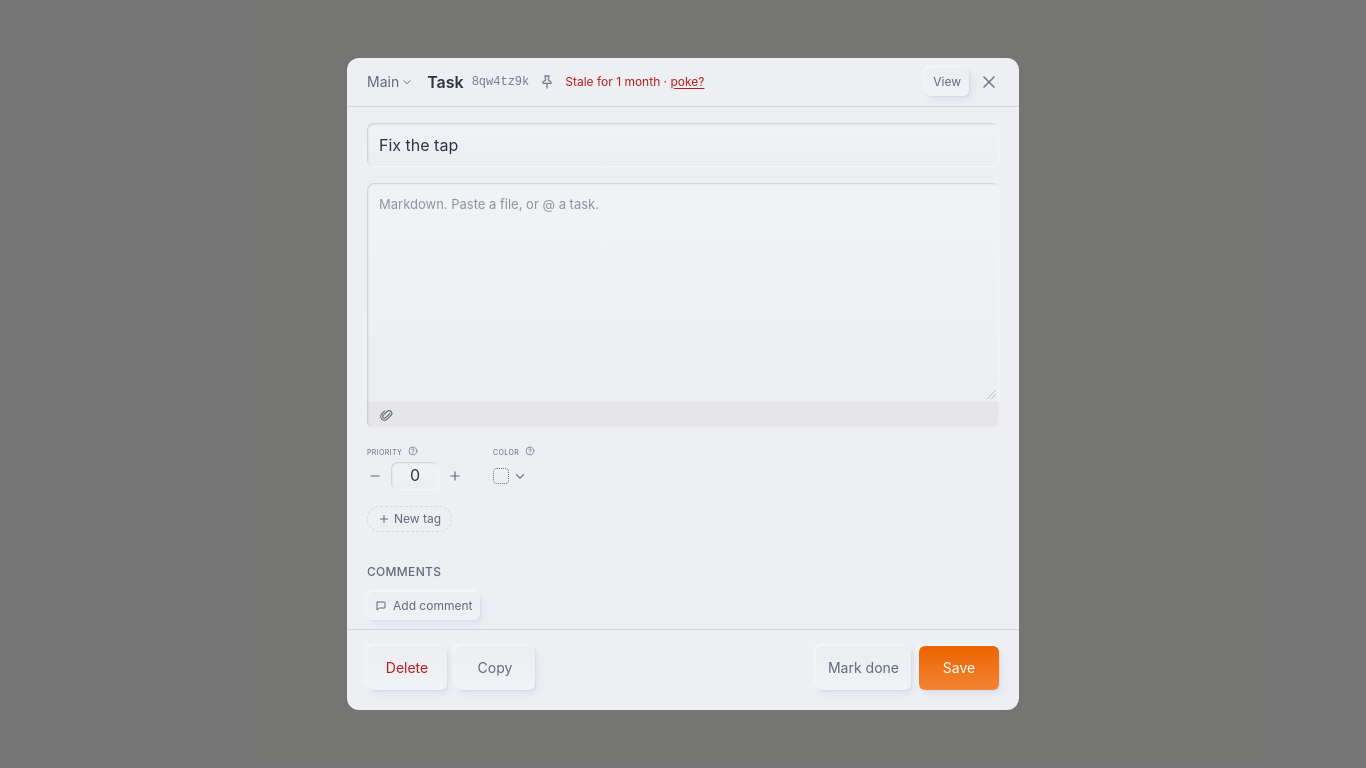
a verdict written and then acted on › is saved before the task is marked done, and never seeded over
The image size is (1366, 768).
Type "Verdict: not worth it" into the text box with placeholder "Markdown. Paste a file, or @ a task." at point(683, 292), box [367,183,999,402]
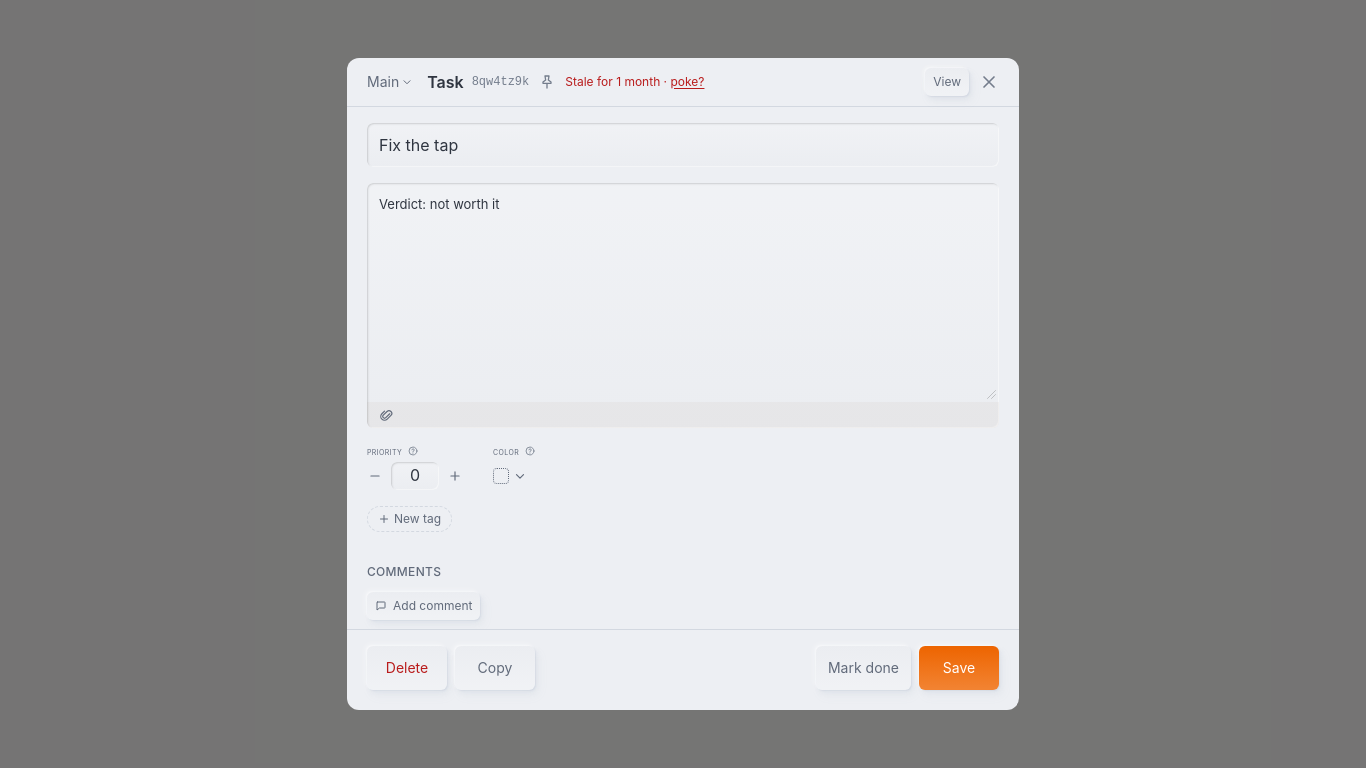
Click the button "Mark done" at point(864, 668), box [816,646,911,690]
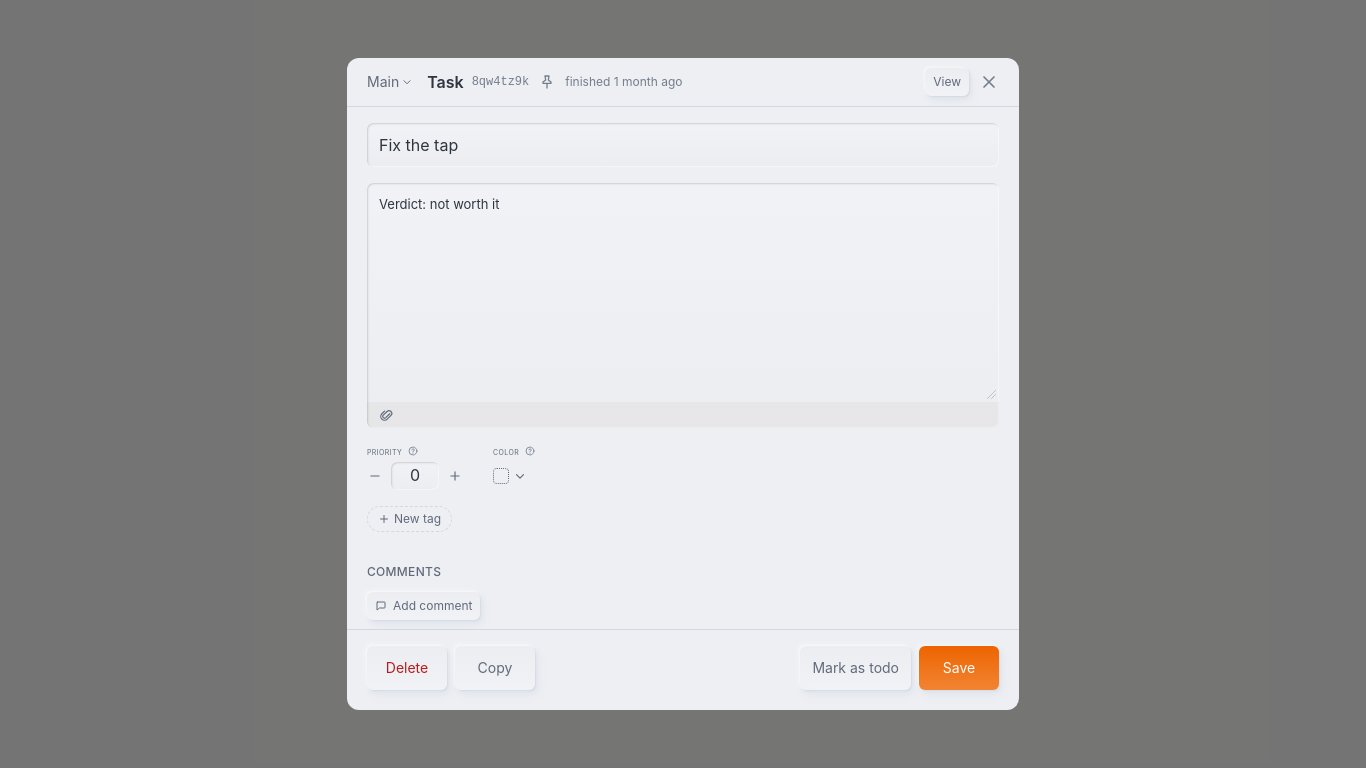
Expected: the button "Mark as todo" is shown, [800,646,911,690]
